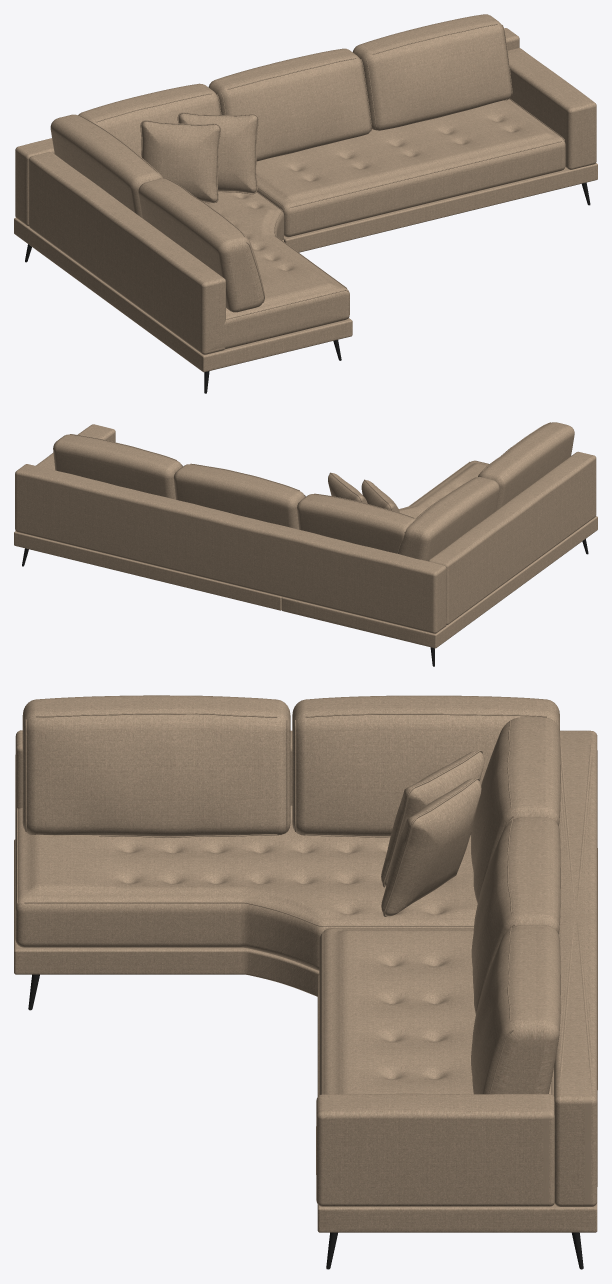
Rendered from corner.glb.
3 renders of one model, top to bottom at view 1: azimuth 30°, elevation 25°; view 2: azimuth 150°, elevation 25°; view 3: azimuth 270°, elevation 25°, orthographic. The views are drawn at different scales.
Visible parts, largest first — view 1: fabric (×2), pillows (×2); view 2: fabric (×2), pillows; view 3: fabric (×2), pillows (×2), legs.
Part boxes in pixels (x1,y1,x2,y2): fabric (×2): [14, 14, 597, 372]; pillows (×2): [140, 112, 258, 203]; fabric (×2): [14, 422, 597, 648]; pillows: [328, 473, 399, 512]; fabric (×2): [14, 695, 597, 1232]; pillows (×2): [381, 750, 484, 916]; legs: [28, 974, 583, 1269].
Bounding box in the file's own units: 3 × 0.864 × 2.
3 materials, 2 textured.
